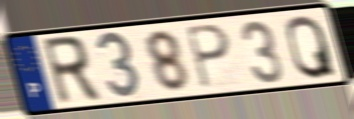3: (94, 28, 144, 104), (240, 19, 284, 85)
8: (141, 28, 193, 94)
P: (183, 23, 233, 92)
Q: (284, 12, 339, 81)
R: (39, 33, 105, 108)
